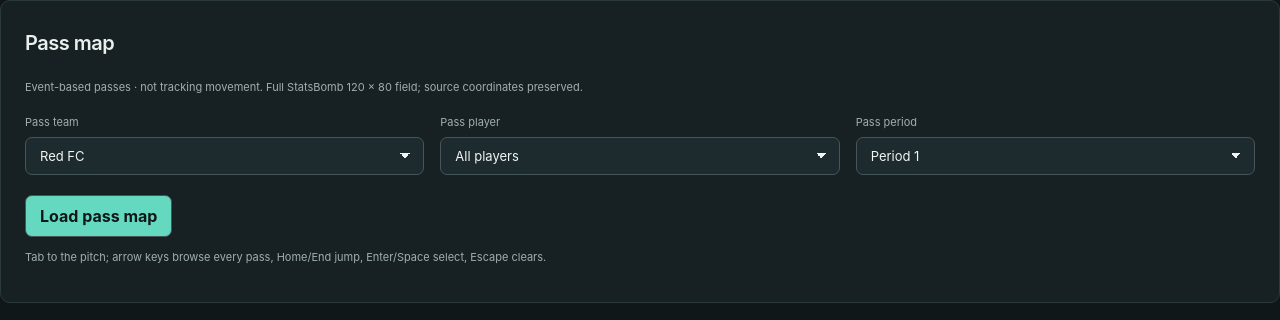
Test case: reports bounded failure safely without pretending there are no passes
The width and height of the screenshot is (1280, 320).
Click the button "Load pass map" at coordinates (99, 216), box [25,195,172,237]
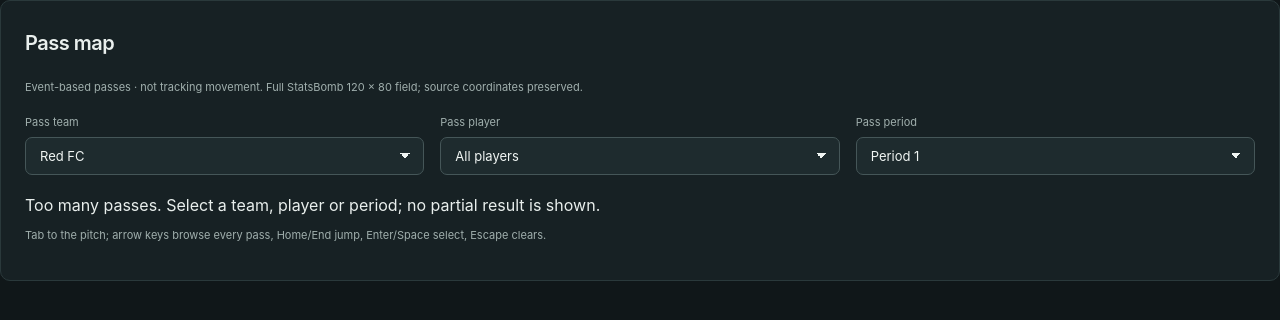
Expected: the message shows "no partial result", [25,195,600,215]
